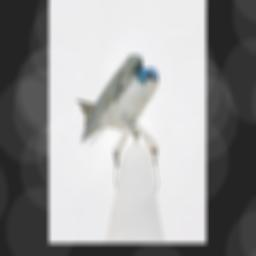Swallow: (75, 54, 159, 149)
